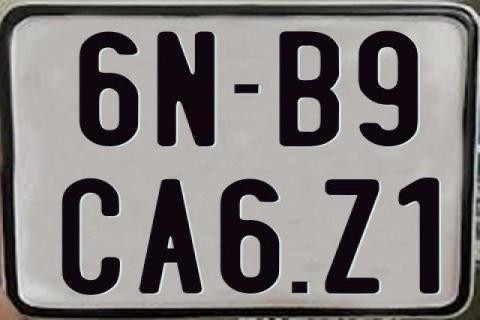0: (357, 31, 417, 151), (76, 30, 138, 146), (218, 178, 278, 296), (398, 178, 442, 296)
A: (137, 180, 202, 296)
B: (276, 29, 340, 150)
C: (62, 178, 124, 298)
N: (154, 32, 213, 150)
Z: (323, 179, 377, 295)
